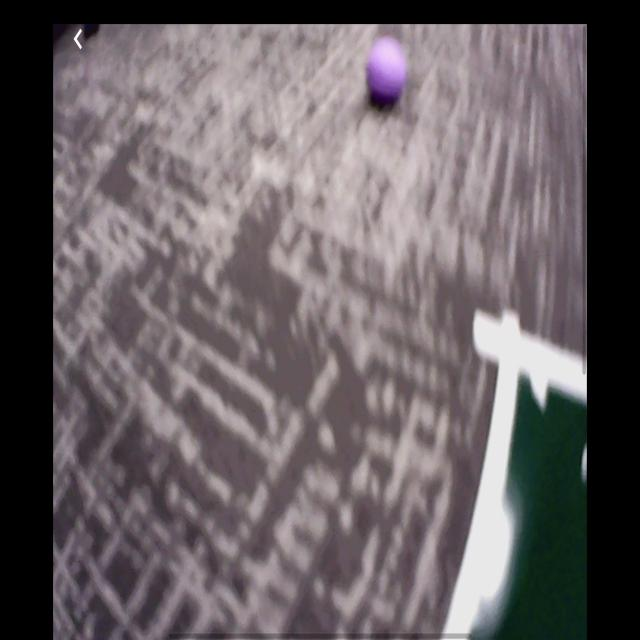ball: (366, 35, 408, 112)
